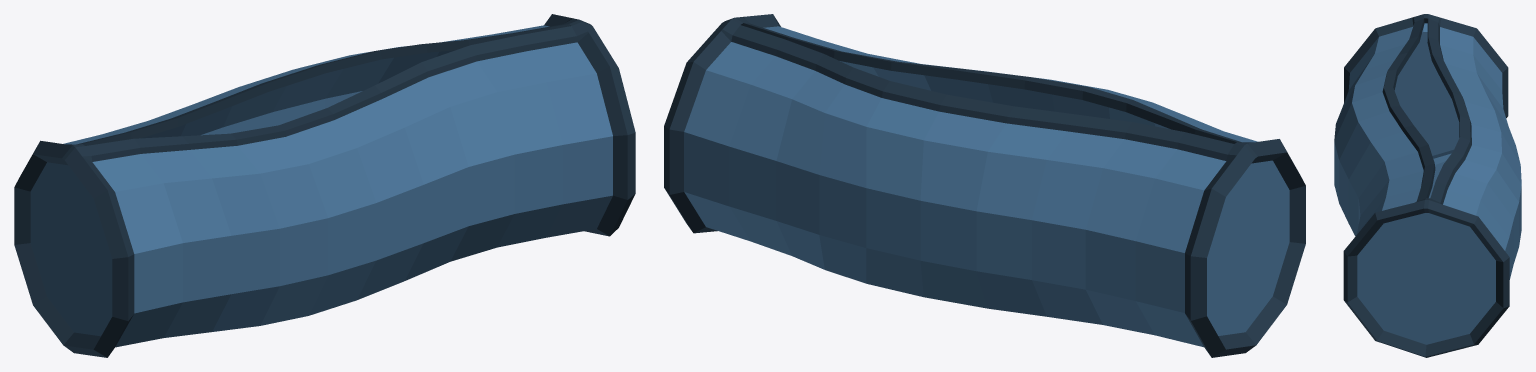
The model's file is pencil_case_1.fbx.
3 views of the same model, side by side, from view 1: azimuth 30°, elevation 25°; view 2: azimuth 150°, elevation 25°; view 3: azimuth 270°, elevation 25° (orthographic). The views are drawn at different scales.
Visible parts, largest first — view 1: pencil case 1; view 2: pencil case 1; view 3: pencil case 1.
Part boxes in pixels (x1,y1,x2,y2): pencil case 1: (14, 14, 635, 357); pencil case 1: (664, 14, 1305, 357); pencil case 1: (1334, 14, 1521, 357).
Bounding box in the file's own units: 35.38 × 13.2 × 14.2.
